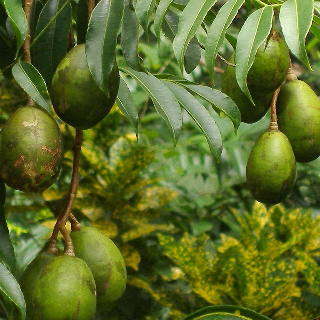coc: (2, 105, 58, 191), (247, 126, 295, 205)
